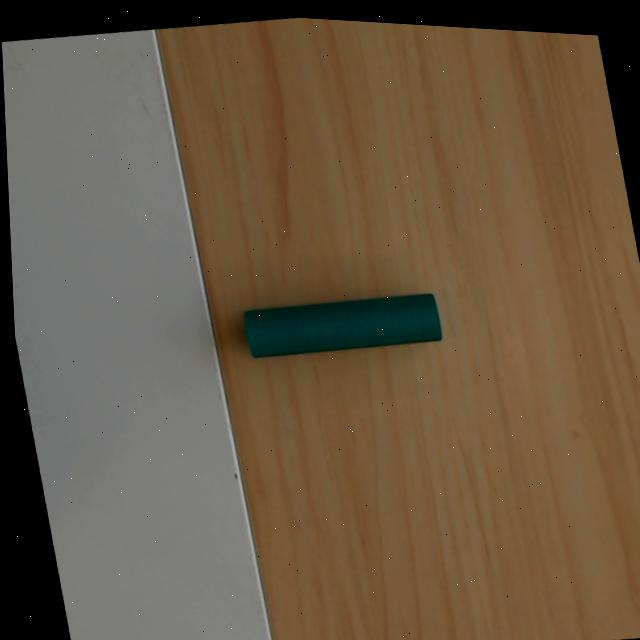Silinder-Hijau-10025: (243, 293, 441, 358)
